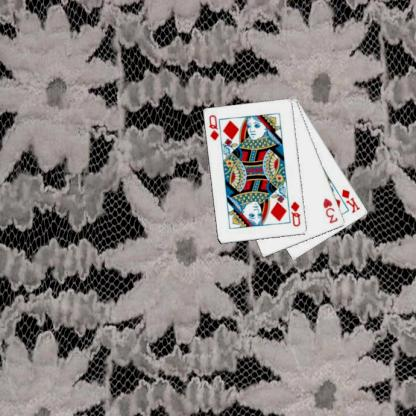3H: (321, 195, 339, 225)
KD: (339, 186, 361, 214)
QD: (206, 112, 220, 142), (288, 199, 302, 228)
